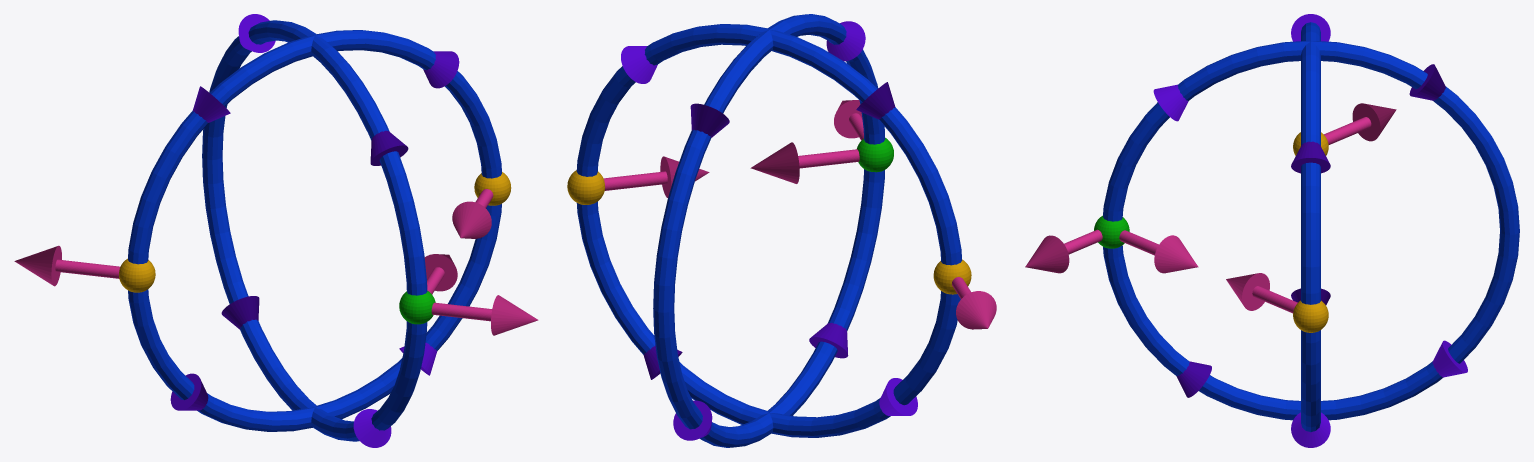
File: magnets_merged.obj
3 renders of one model, left to right at view 1: azimuth 30°, elevation 25°; view 2: azimuth 150°, elevation 25°; view 3: azimuth 270°, elevation 25°, orthographic. The views are drawn at different scales.
Visible parts, largest first — view 1: Torus.001, Torus.002, Cone.011, Cone.013, Cone.012, Sphere.003, Sphere.001, Cone.006, Cone, Cone.004, Cylinder.004, Cone.007 (+6 smaller); view 2: Torus.001, Torus.002, Cone.012, Cone.007, Sphere, Sphere.001, Cone, Cone.008, Cone.005, Sphere.003, Cylinder.003, Cylinder (+6 smaller); view 3: Torus.002, Torus.001, Cone.007, Cone.013, Cone.011, Cone.012, Sphere, Cone.001, Cone.008, Cone.006, Cone, Sphere.001 (+6 smaller).
Boxes of the visible parts, x1=… form: Torus.001: x1=128, y1=30, x2=501, y2=431; Torus.002: x1=202, y1=20, x2=427, y2=441; Cone.011: x1=452, y1=201, x2=491, y2=238; Cone.013: x1=491, y1=295, x2=538, y2=335; Cone.012: x1=14, y1=245, x2=61, y2=286; Sphere.003: x1=119, y1=258, x2=155, y2=292; Sphere.001: x1=399, y1=291, x2=435, y2=324; Cone.006: x1=353, y1=409, x2=391, y2=447; Cone: x1=423, y1=51, x2=459, y2=88; Cone.004: x1=221, y1=296, x2=259, y2=329; Cylinder.004: x1=55, y1=259, x2=119, y2=278; Cone.007: x1=424, y1=254, x2=457, y2=291; Torus.001: x1=576, y1=24, x2=962, y2=437; Torus.002: x1=653, y1=14, x2=885, y2=447; Cone.012: x1=956, y1=291, x2=996, y2=329; Cone.007: x1=750, y1=142, x2=799, y2=183; Sphere: x1=567, y1=170, x2=605, y2=204; Sphere.001: x1=857, y1=137, x2=893, y2=172; Cone: x1=621, y1=46, x2=657, y2=83; Cone.008: x1=826, y1=21, x2=865, y2=61; Cone.005: x1=690, y1=103, x2=729, y2=137; Sphere.003: x1=933, y1=259, x2=971, y2=294; Cylinder.003: x1=603, y1=171, x2=667, y2=190; Cylinder: x1=798, y1=149, x2=859, y2=168; Torus.002: x1=1103, y1=41, x2=1519, y2=420; Torus.001: x1=1301, y1=22, x2=1320, y2=432; Cone.007: x1=1154, y1=235, x2=1198, y2=273; Cone.013: x1=1025, y1=235, x2=1069, y2=273; Cone.011: x1=1226, y1=273, x2=1269, y2=310; Cone.012: x1=1352, y1=103, x2=1396, y2=141; Sphere: x1=1293, y1=300, x2=1328, y2=332; Cone.001: x1=1291, y1=412, x2=1330, y2=447; Cone.008: x1=1153, y1=84, x2=1188, y2=121; Cone.006: x1=1176, y1=361, x2=1211, y2=397; Cone: x1=1291, y1=141, x2=1330, y2=173; Sphere.001: x1=1094, y1=215, x2=1129, y2=248.
Bounding box in the file's own units: 2.53 × 2.1 × 2.49.
